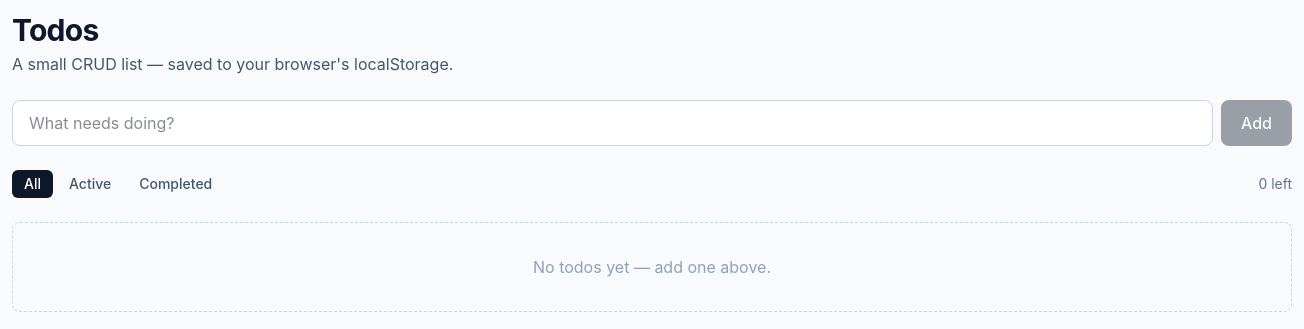
Test: <Todos /> › deletes a todo
The image size is (1304, 329).
In the field with placeholder "What needs doing?": (612, 123) [12, 100, 1213, 146], type "Buy milk"
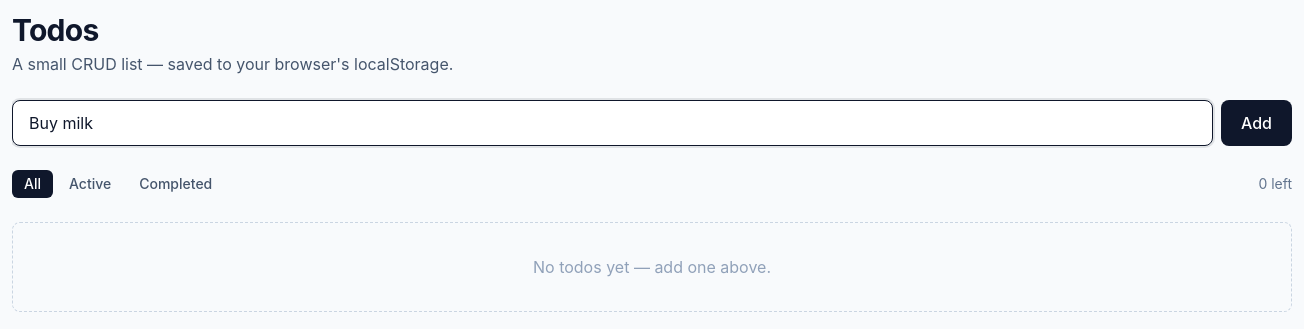
Click the button "Add": click(1256, 123) [1221, 100, 1292, 146]
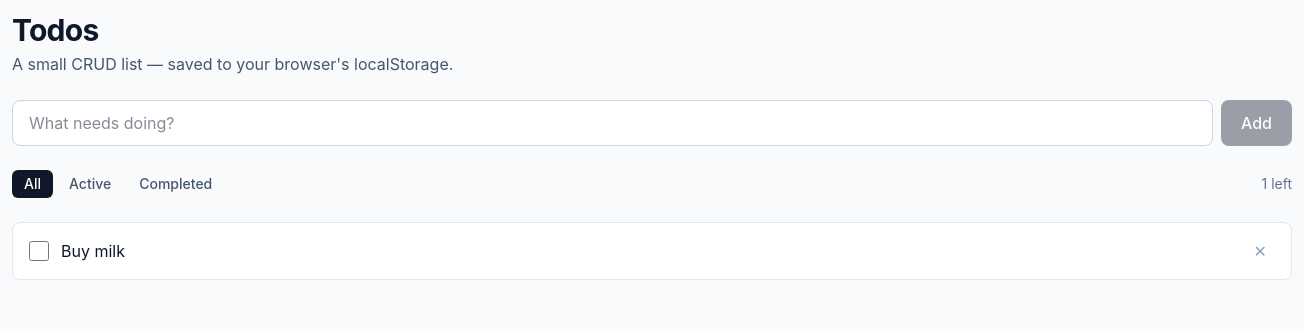
Click the button named "Delete todo": click(1260, 251) [1246, 235, 1275, 267]
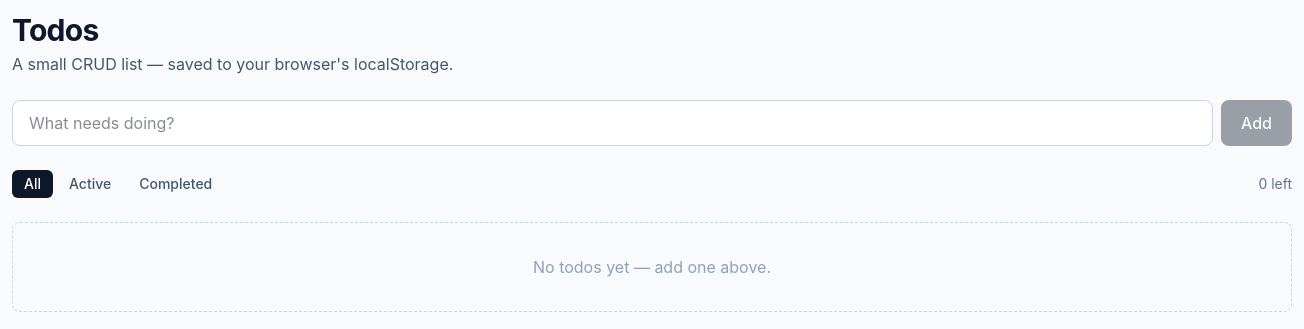
Check: the text "Buy milk" is gone
Check: the list item "No todos yet — add one above." is shown, box [12, 222, 1292, 312]
